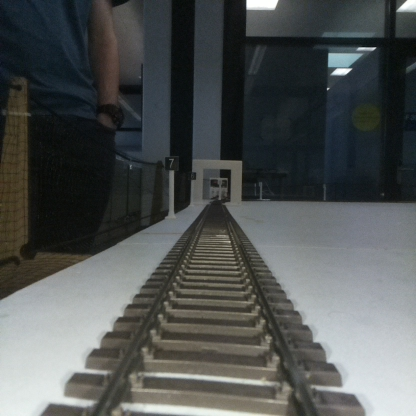black-info-6: (189, 170, 196, 207)
black-info-7: (165, 156, 178, 218)
